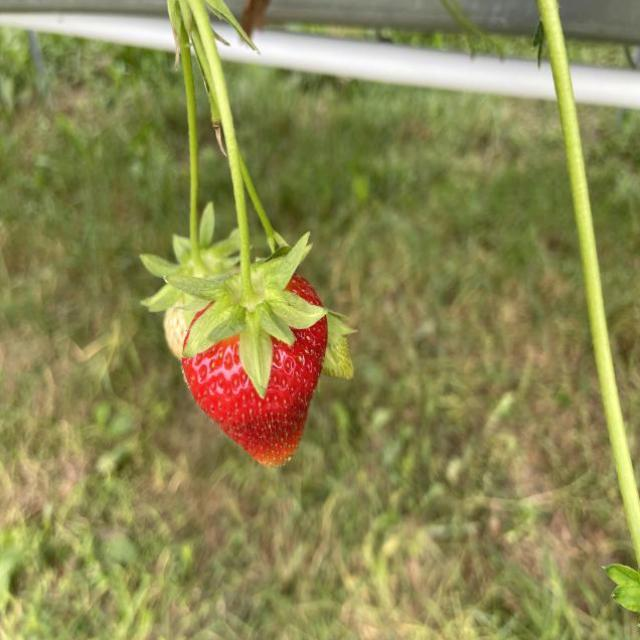stem: (168, 0, 327, 396), (140, 159, 239, 325)
strawberryR: (181, 322, 324, 464)
